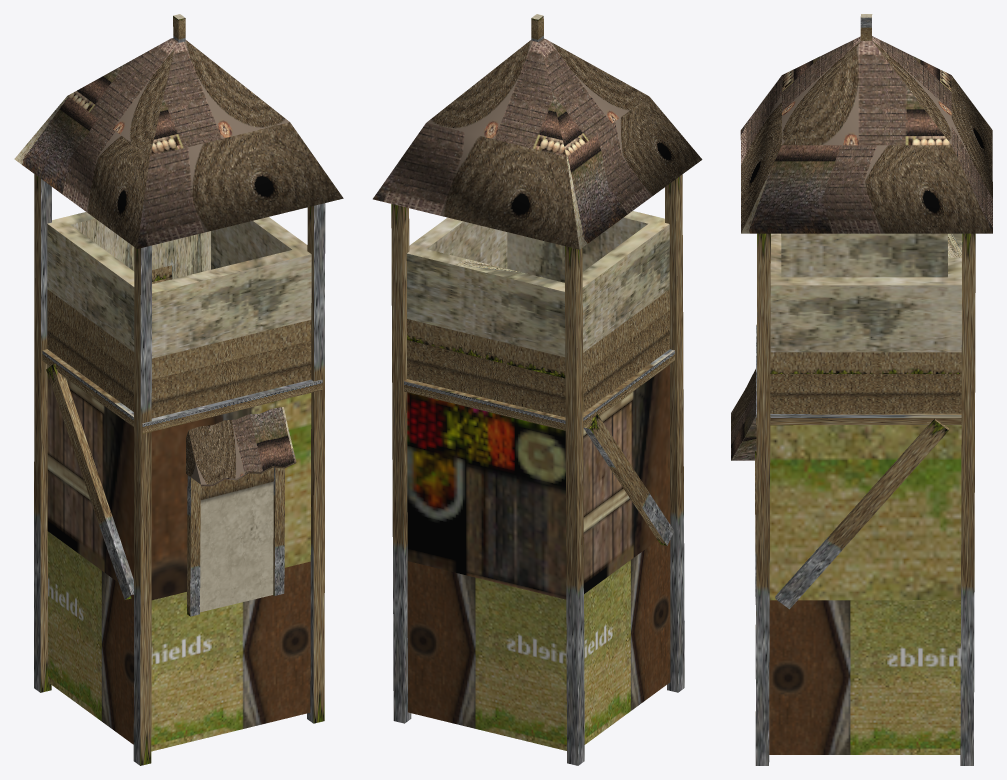
Rendered from wood_tower.dae.
3 renders of one model, left to right at view 1: azimuth 30°, elevation 25°; view 2: azimuth 150°, elevation 25°; view 3: azimuth 270°, elevation 25°, orthographic. The views are drawn at different scales.
Visible parts, largest first — view 1: wood_tower; view 2: wood_tower; view 3: wood_tower.
Boxes of the visible parts, left/top/right/bottom form: wood_tower: left=14, top=14, right=343, bottom=765; wood_tower: left=373, top=14, right=702, bottom=765; wood_tower: left=731, top=14, right=992, bottom=765.
Size of the model in its own units: 7.04 by 7.53 by 22.35.
